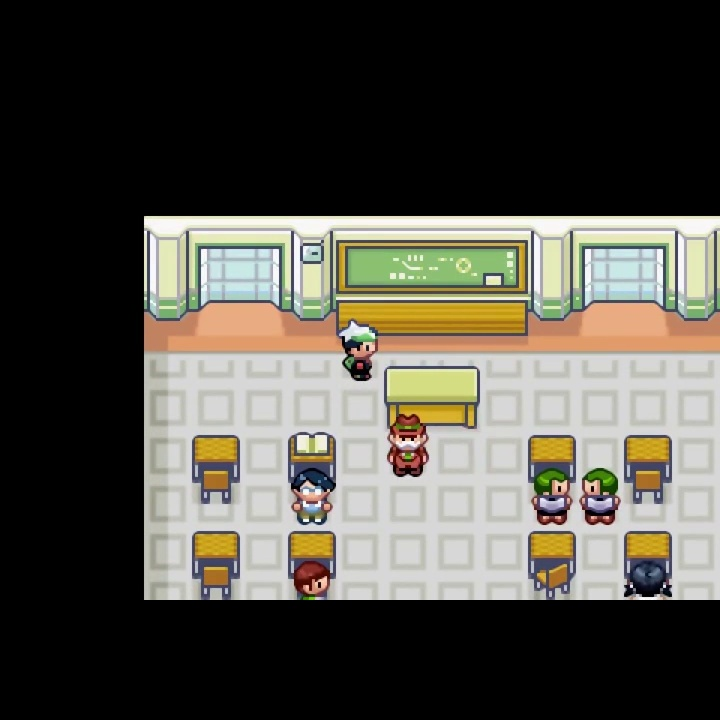agent: (335, 318, 381, 387)
npc: (287, 464, 339, 526), (386, 411, 433, 479), (578, 465, 623, 529), (530, 467, 575, 528), (621, 560, 673, 601), (292, 559, 331, 600)
